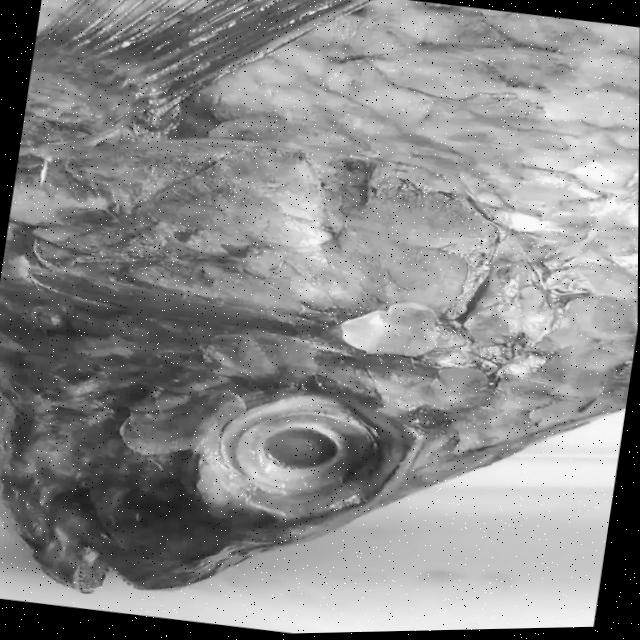Non-Fresh: (0, 0, 640, 408), (186, 356, 408, 539)
